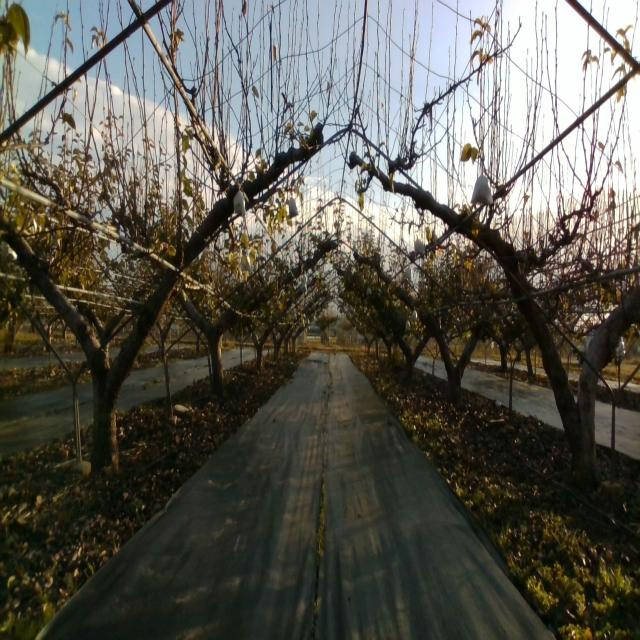pearbags: (470, 174, 493, 206), (233, 183, 247, 217), (414, 234, 425, 258), (288, 196, 299, 218)
